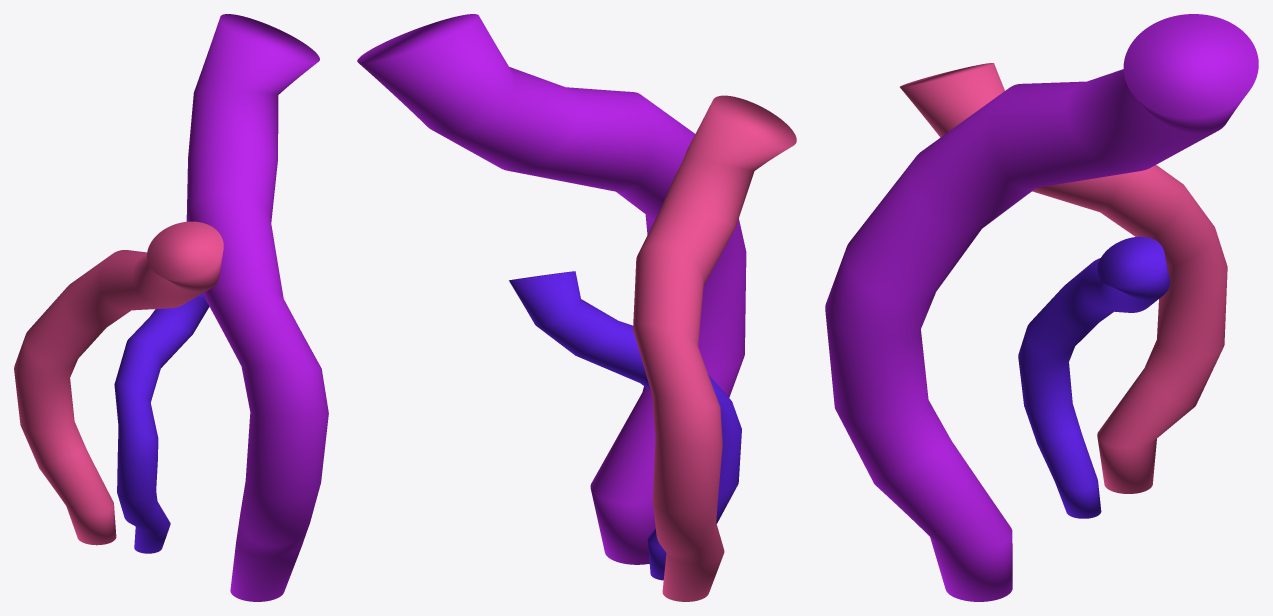
File: corals.fbx
The picture shows the model from 3 angles, left to right: view 1: azimuth 30°, elevation 25°; view 2: azimuth 150°, elevation 25°; view 3: azimuth 270°, elevation 25°; orthographic projection. The views are drawn at different scales.
Visible parts, largest first — view 1: Cylinder.002, Cylinder.001, Cylinder; view 2: Cylinder.002, Cylinder.001, Cylinder; view 3: Cylinder.002, Cylinder.001, Cylinder.
Part boxes in pixels (x1,y1,x2,y2): Cylinder.002: (186, 14, 328, 601); Cylinder.001: (14, 221, 223, 545); Cylinder: (114, 293, 209, 553); Cylinder.002: (357, 14, 746, 564); Cylinder.001: (633, 95, 796, 601); Cylinder: (509, 271, 741, 580); Cylinder.002: (825, 14, 1258, 601); Cylinder.001: (900, 63, 1227, 493); Cylinder: (1018, 236, 1169, 518).
Size of the model in its own units: 1202 by 1903 by 1231.
